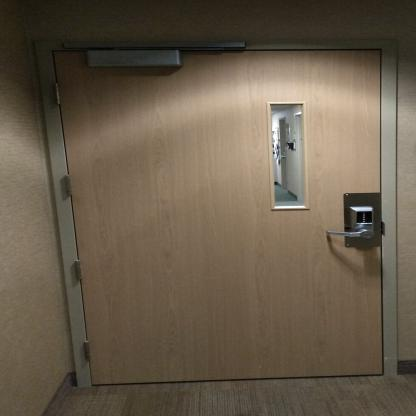door: (47, 47, 398, 387)
hinged: (70, 258, 90, 284), (62, 174, 78, 198), (82, 340, 97, 362), (53, 82, 66, 106)
lever: (322, 226, 376, 243)
